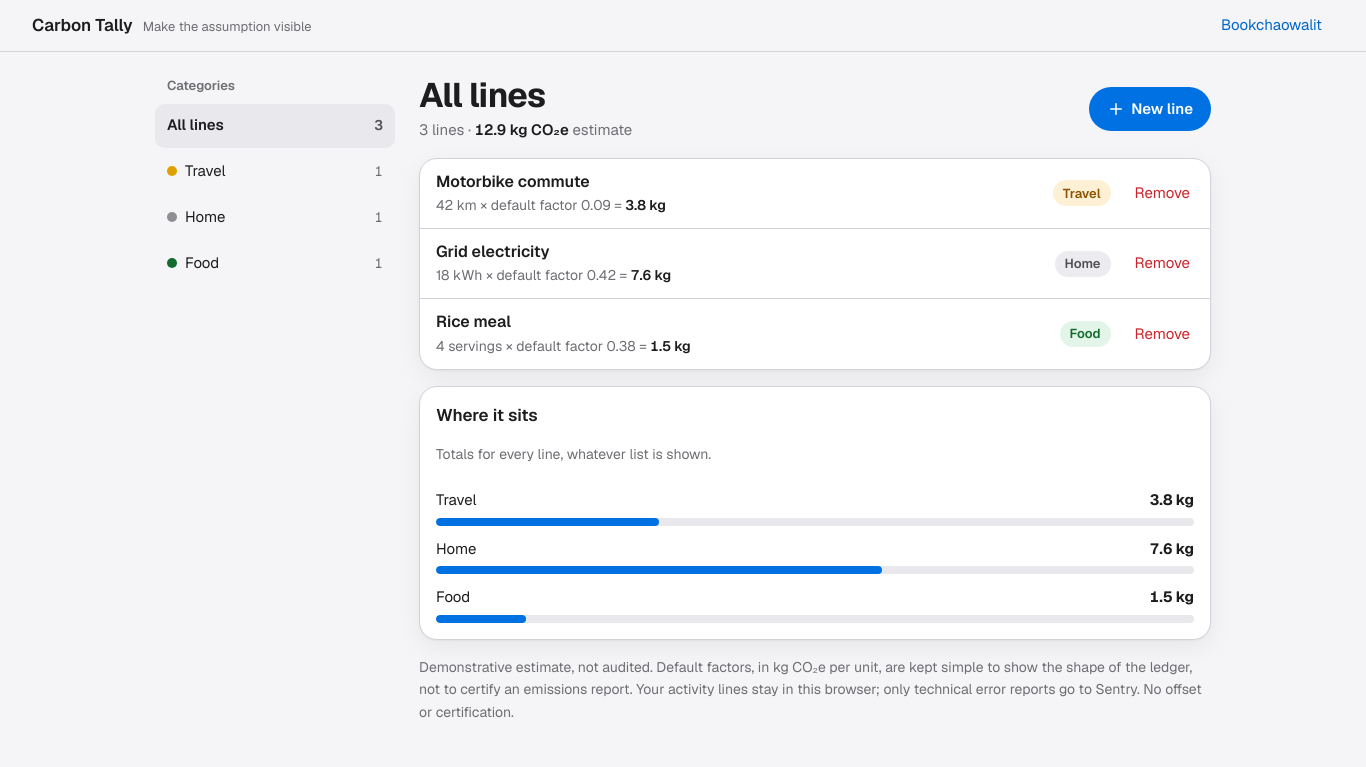
it: remove and undo › shows empty states and the toast closes on its own or on Escape
Click the button "Food 1".
click(275, 264)  # box x1=155 y1=242 x2=395 y2=286
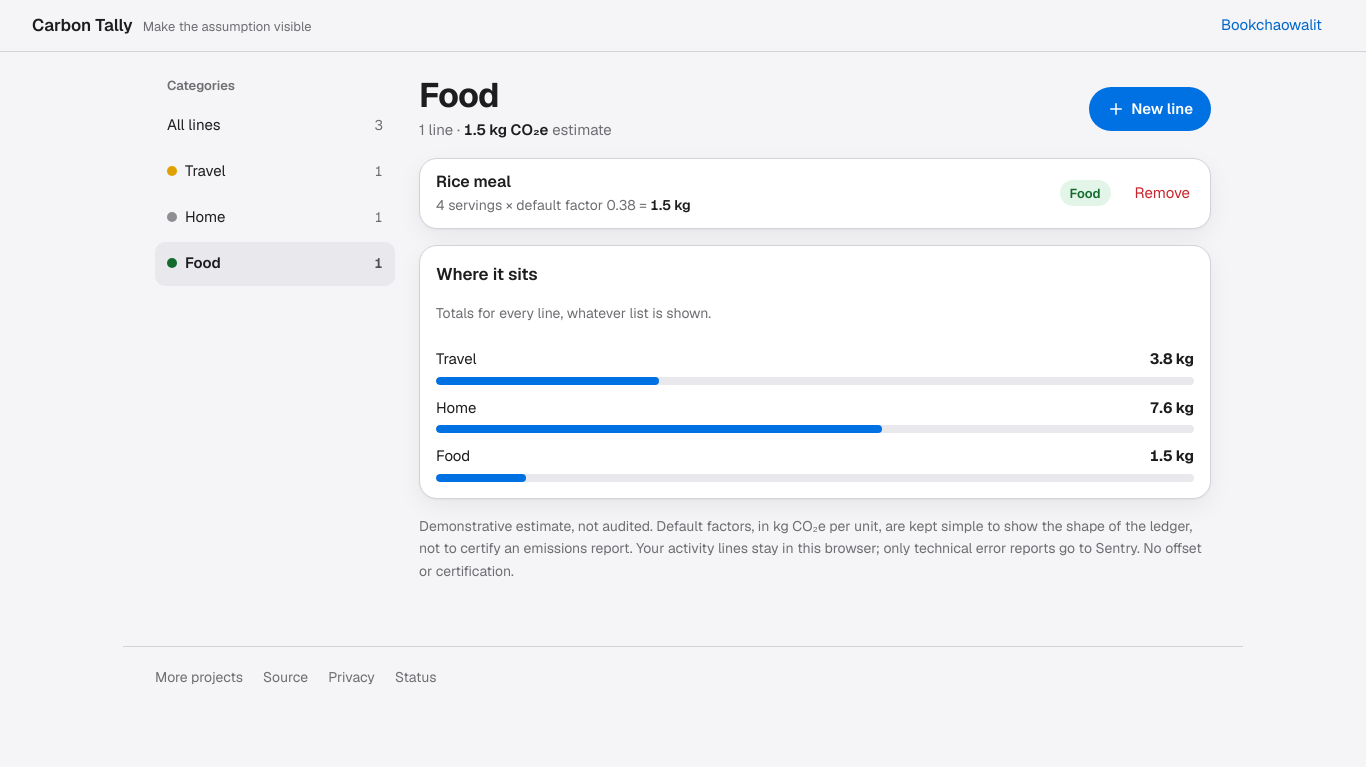
Click the button with aria-label "Remove Rice meal".
click(1162, 193)  # box x1=1123 y1=171 x2=1202 y2=215
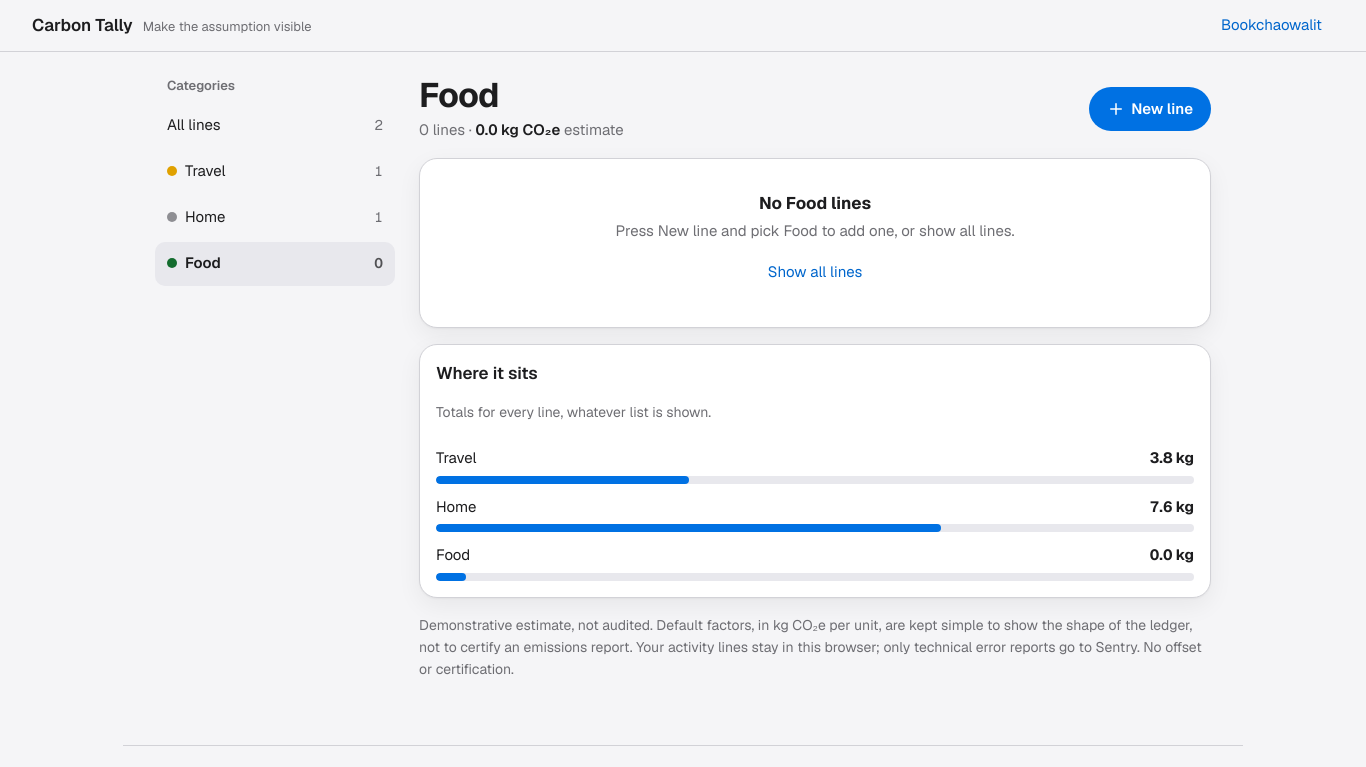
Expected: the element with class "as-empty" shows "No Food lines", x1=419 y1=158 x2=1211 y2=328
Click the button "Show all lines".
click(815, 273)  # box x1=756 y1=251 x2=874 y2=295
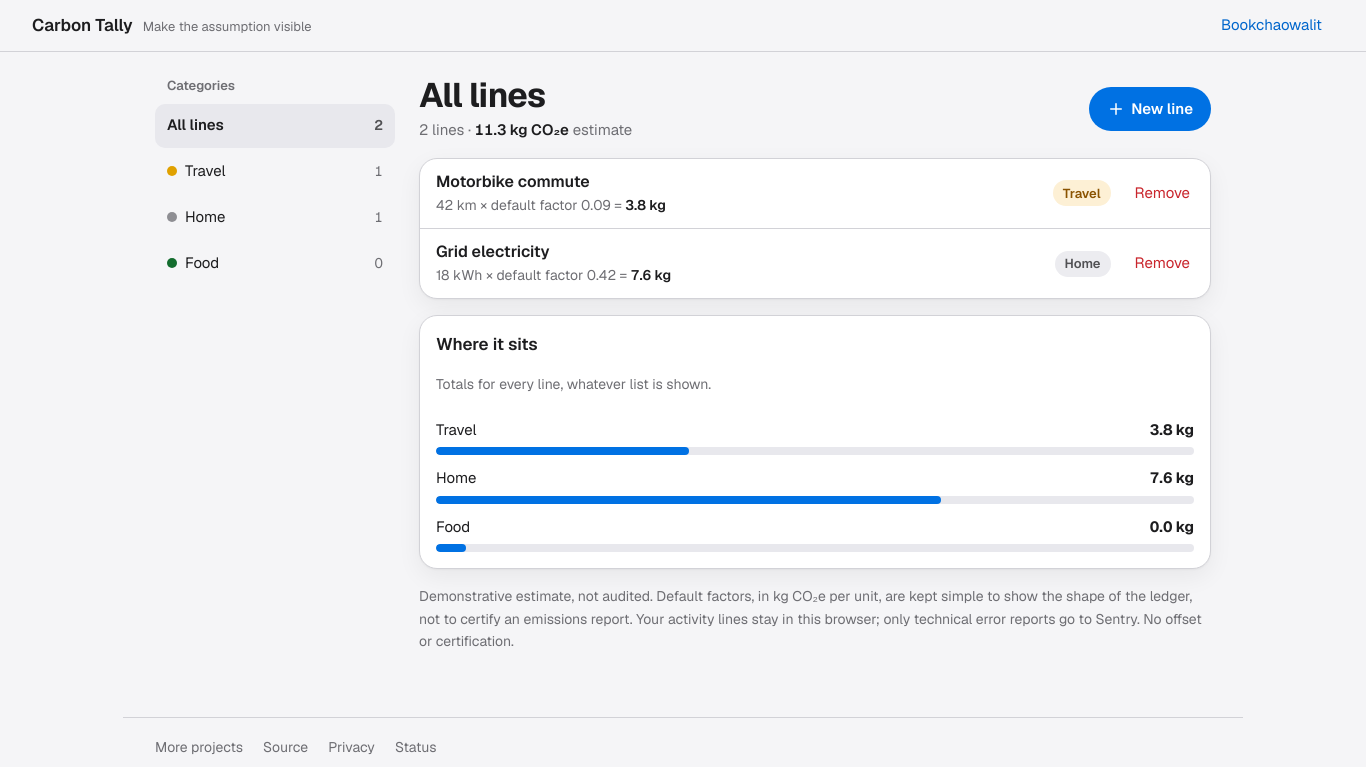
Click the button with aria-label "Remove Motorbike commute".
click(1162, 193)  # box x1=1123 y1=171 x2=1202 y2=215
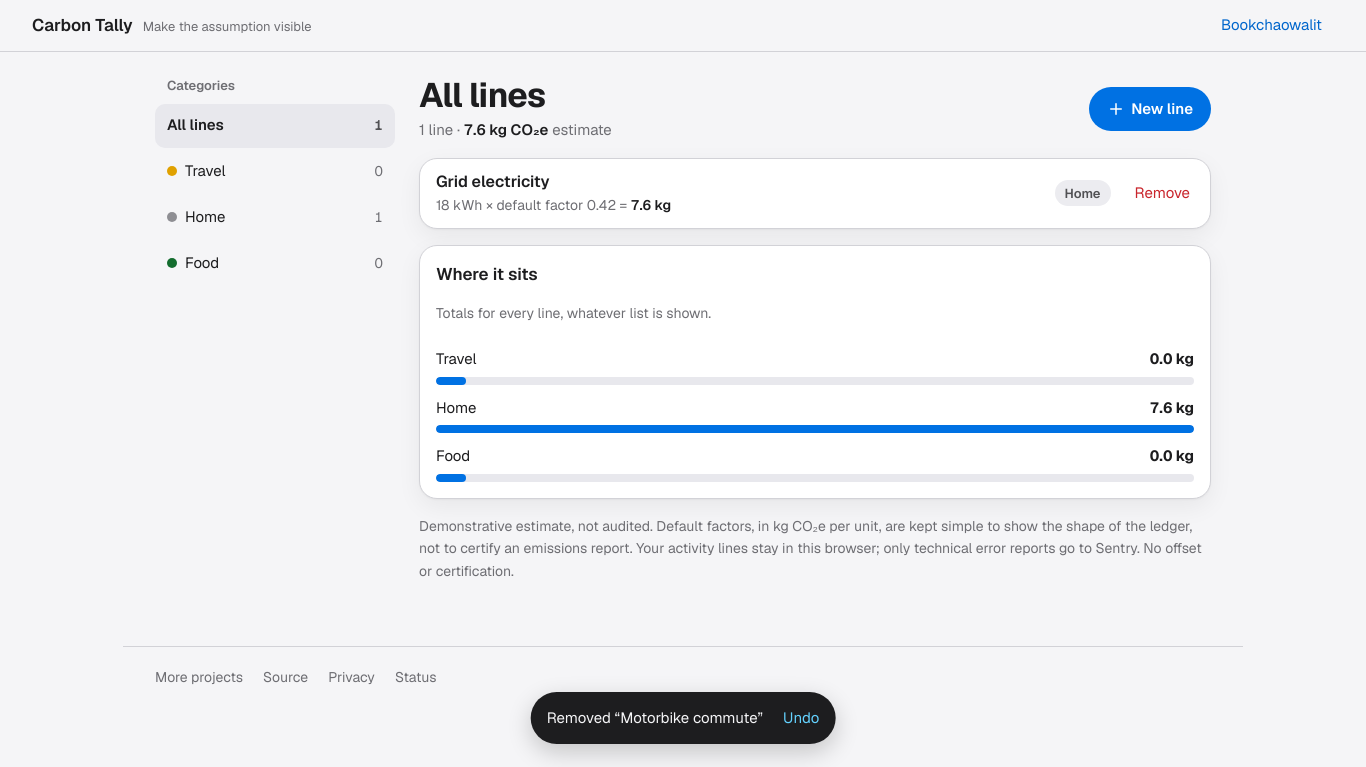
Press Escape in the element with class "as-toast", box x1=531 y1=692 x2=835 y2=744
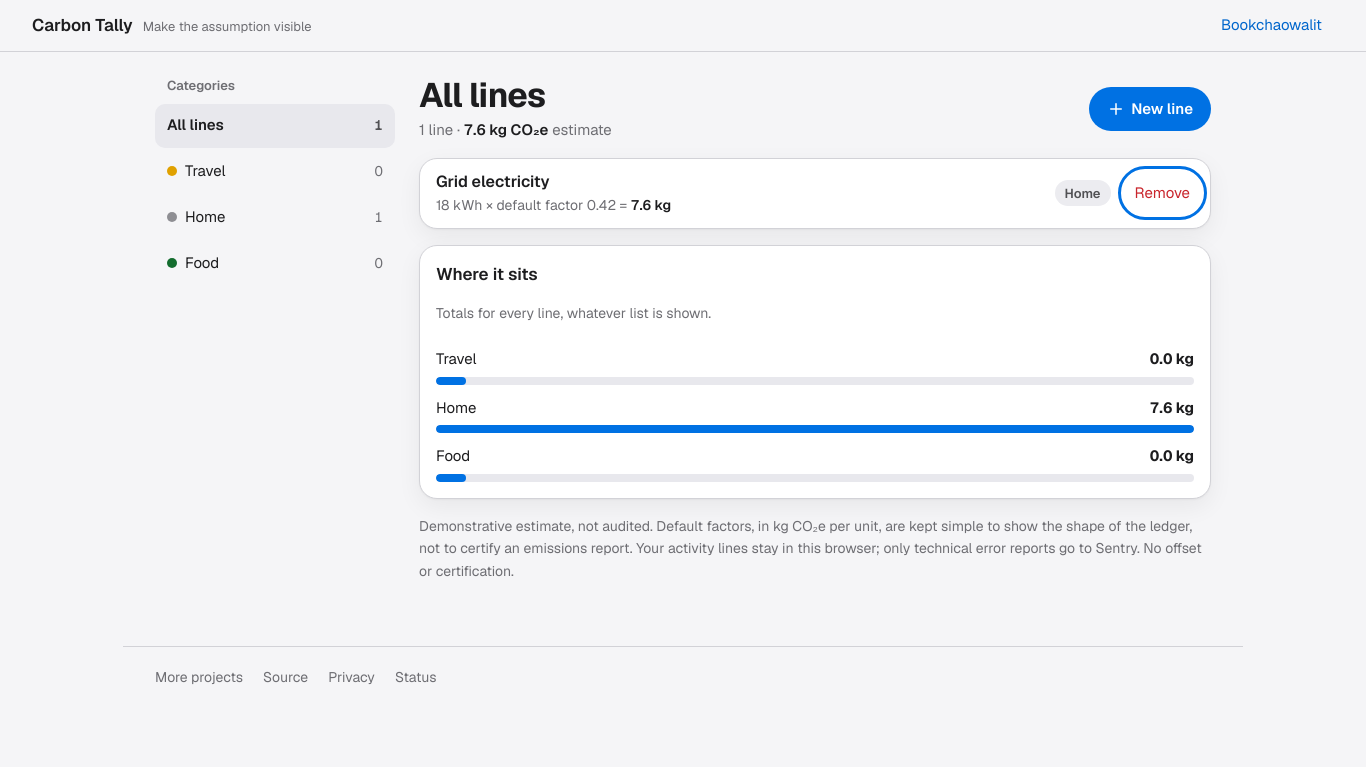
Expected: the element with class "as-toast" is gone
Click the button with aria-label "Remove Grid electricity".
click(1162, 193)  # box x1=1123 y1=171 x2=1202 y2=215
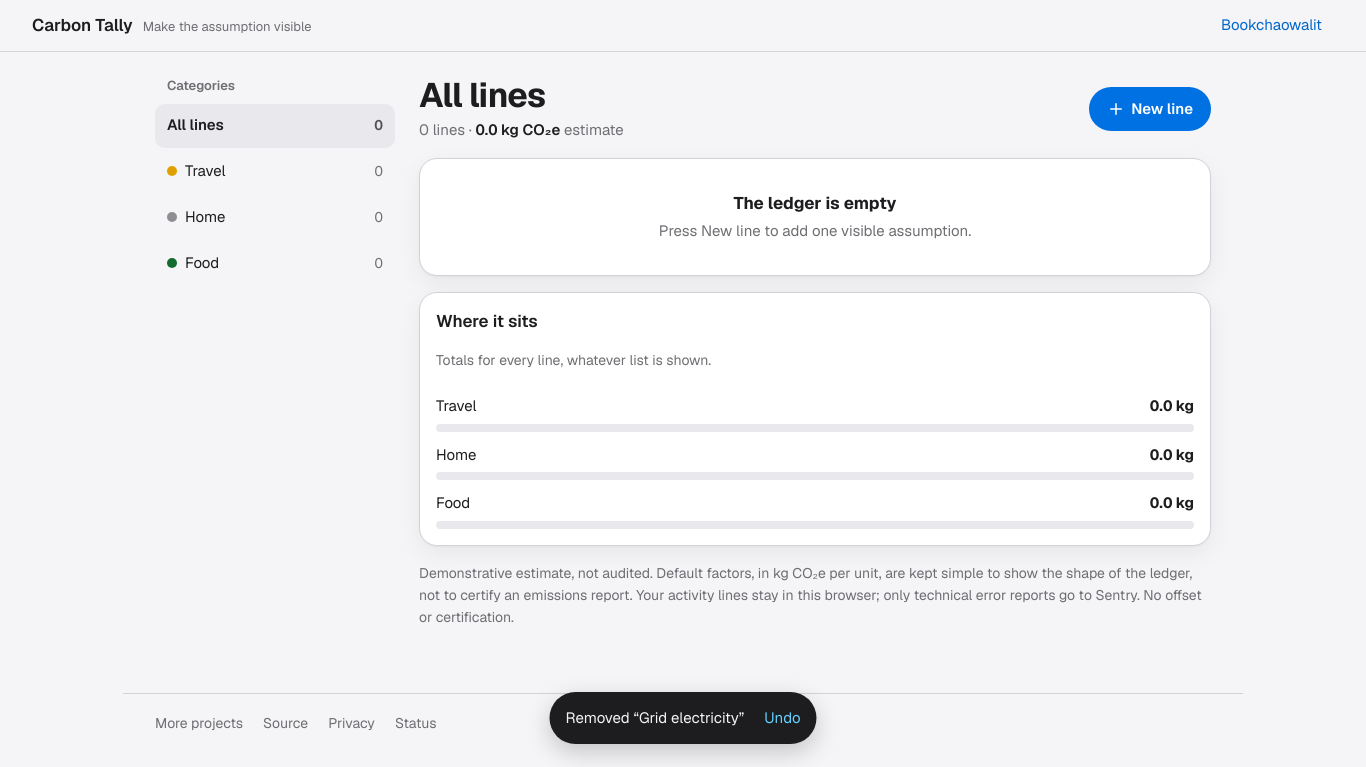
Expected: the element with class "as-empty" shows "The ledger is empty", x1=734 y1=192 x2=896 y2=214
